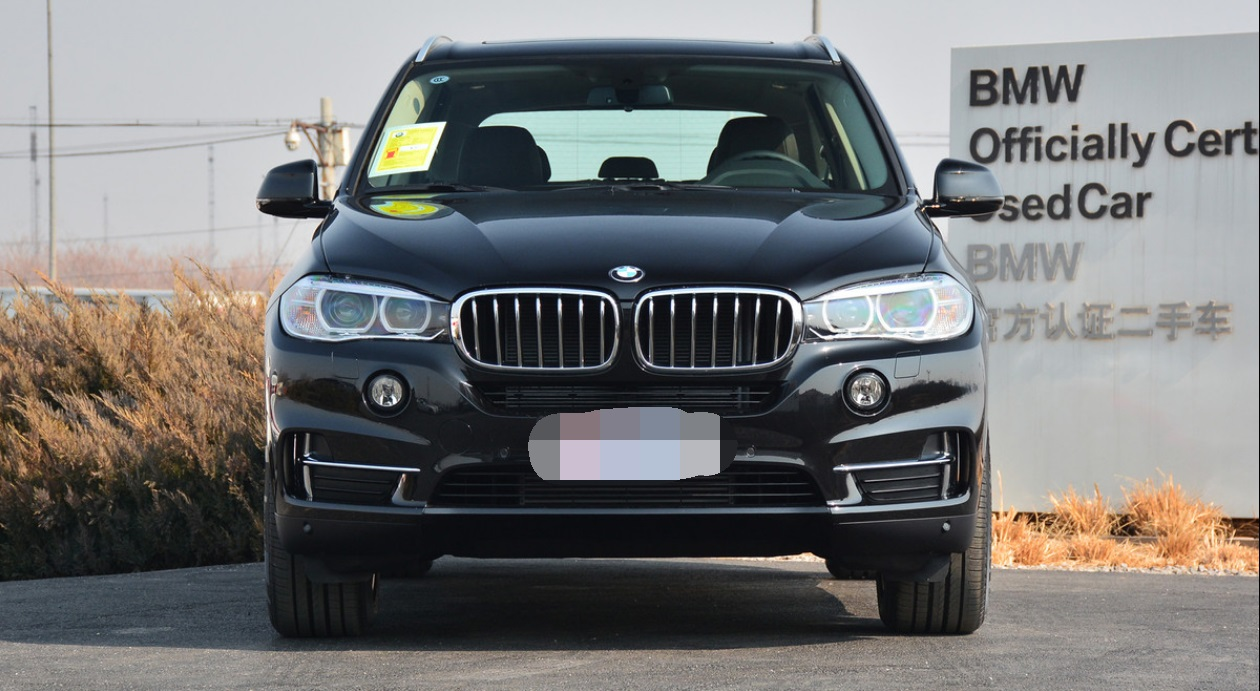SUV: (254, 28, 1012, 636)
